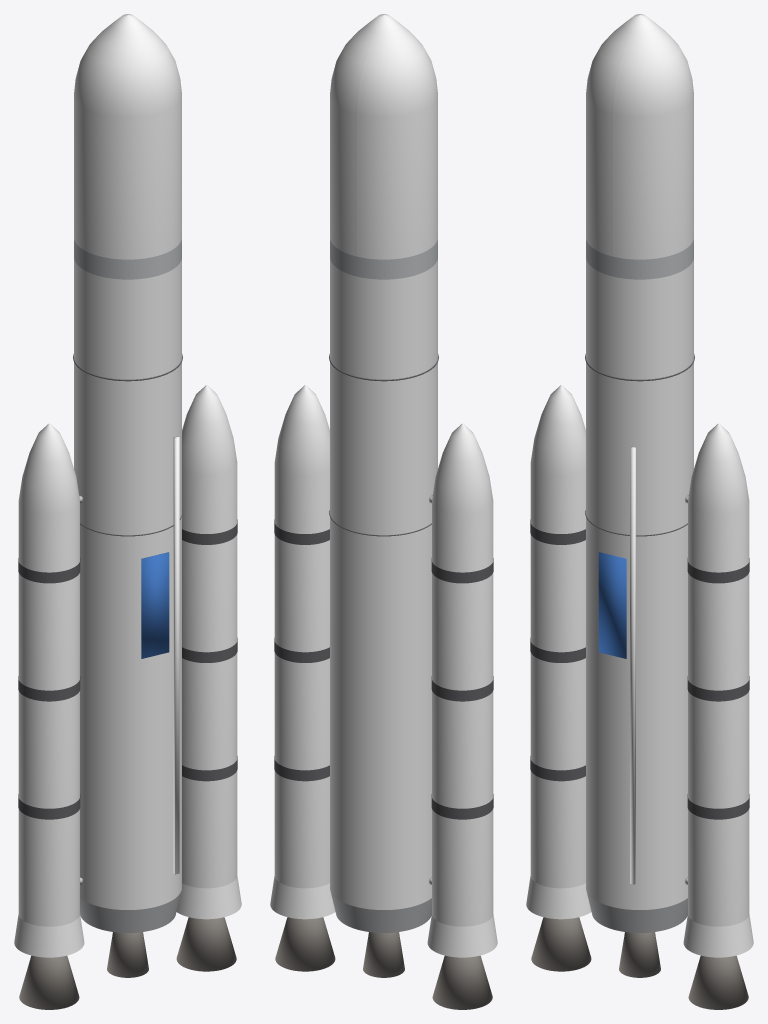
File: Ariane5_Body.fbx
The picture shows the model from 3 angles, left to right: view 1: azimuth 30°, elevation 25°; view 2: azimuth 150°, elevation 25°; view 3: azimuth 330°, elevation 25°; orthographic projection.
Visible parts, largest first — view 1: EPC__A5_White, EAP_Left__A5_White, EAP_Right__A5_White, Fairing_A__A5_White, ESC__A5_White, Fairing_B__A5_White, EPC__A5_Logo, EAP_Left__A5_Engine, EAP_Right__A5_Engine, ESC__A5_Grey, EPC__A5_Grey, EAP_Left__A5_Band (+2 smaller); view 2: EPC__A5_White, EAP_Left__A5_White, EAP_Right__A5_White, Fairing_A__A5_White, ESC__A5_White, Fairing_B__A5_White, EAP_Left__A5_Engine, EAP_Right__A5_Engine, ESC__A5_Grey, EPC__A5_Grey, EAP_Left__A5_Band, EAP_Right__A5_Band (+1 smaller); view 3: EPC__A5_White, EAP_Right__A5_White, EAP_Left__A5_White, Fairing_B__A5_White, ESC__A5_White, Fairing_A__A5_White, EPC__A5_Logo, EAP_Left__A5_Engine, EAP_Right__A5_Engine, ESC__A5_Grey, EPC__A5_Grey, EAP_Right__A5_Band (+2 smaller).
Part boxes in pixels (x1,y1,x2,y2): EPC__A5_White: [74, 362, 181, 909]; EAP_Left__A5_White: [14, 423, 84, 957]; EAP_Right__A5_White: [176, 385, 241, 919]; Fairing_A__A5_White: [74, 14, 154, 259]; ESC__A5_White: [74, 259, 181, 381]; Fairing_B__A5_White: [126, 14, 181, 256]; EPC__A5_Logo: [141, 552, 169, 658]; EAP_Left__A5_Engine: [19, 955, 79, 1009]; EAP_Right__A5_Engine: [176, 917, 236, 971]; ESC__A5_Grey: [74, 239, 181, 279]; EPC__A5_Grey: [80, 892, 180, 932]; EAP_Left__A5_Band: [18, 558, 80, 819]; EPC__A5_White: [330, 362, 437, 909]; EAP_Left__A5_White: [427, 423, 497, 957]; EAP_Right__A5_White: [270, 385, 335, 919]; Fairing_A__A5_White: [357, 14, 437, 259]; ESC__A5_White: [330, 259, 437, 381]; Fairing_B__A5_White: [330, 14, 385, 256]; EAP_Left__A5_Engine: [432, 955, 492, 1009]; EAP_Right__A5_Engine: [275, 917, 335, 971]; ESC__A5_Grey: [330, 239, 437, 279]; EPC__A5_Grey: [331, 892, 431, 932]; EAP_Left__A5_Band: [431, 558, 493, 819]; EAP_Right__A5_Band: [274, 519, 329, 781]; EPC__A5_White: [586, 362, 693, 909]; EAP_Right__A5_White: [683, 423, 753, 957]; EAP_Left__A5_White: [526, 385, 591, 919]; Fairing_B__A5_White: [613, 14, 693, 259]; ESC__A5_White: [586, 259, 693, 381]; Fairing_A__A5_White: [586, 14, 641, 256]; EPC__A5_Logo: [598, 552, 626, 658]; EAP_Left__A5_Engine: [531, 917, 591, 971]; EAP_Right__A5_Engine: [688, 955, 748, 1009]; ESC__A5_Grey: [586, 239, 693, 279]; EPC__A5_Grey: [587, 892, 687, 932]; EAP_Right__A5_Band: [687, 558, 749, 819].
Size of the model in its own units: 12.56 by 53 by 5.6.
